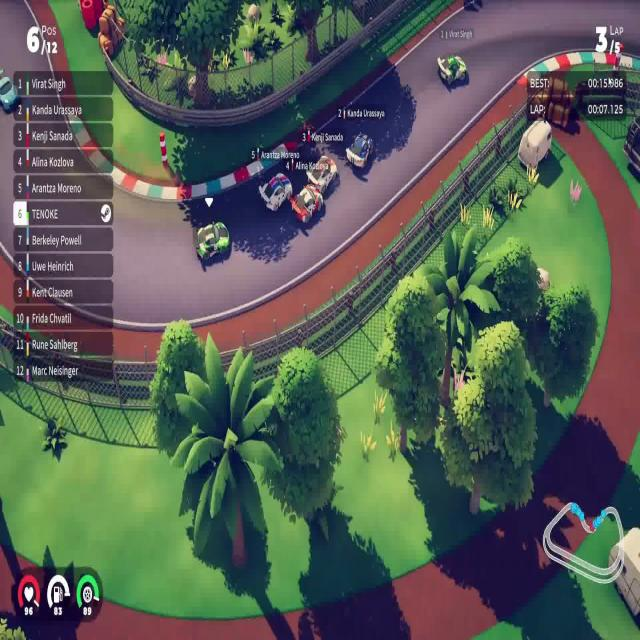car: (195, 219, 230, 263), (289, 182, 324, 225), (258, 170, 292, 212), (305, 153, 338, 195), (344, 131, 374, 169), (436, 54, 467, 86)
